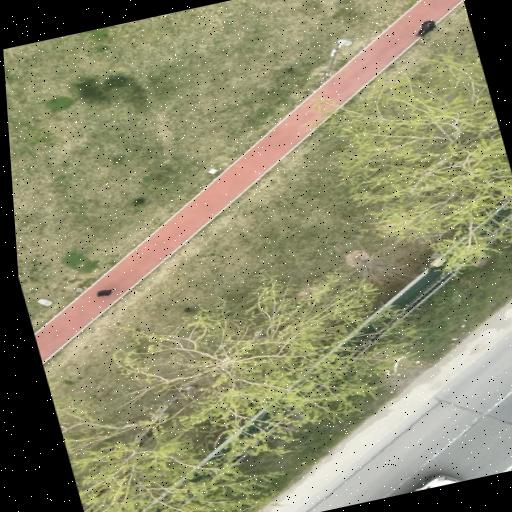car: (413, 475, 460, 491)
person: (415, 20, 435, 35), (96, 287, 113, 296)
